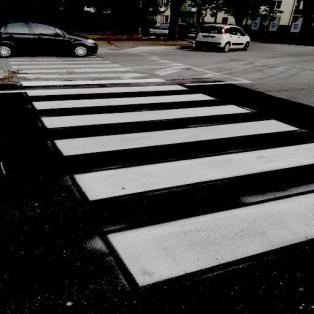Paso de Cebra: (34, 102, 301, 162), (18, 77, 191, 98)
